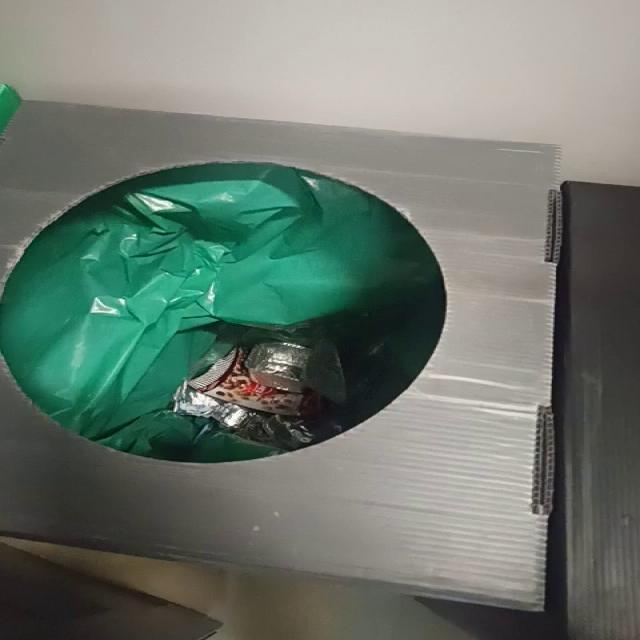bin: (1, 101, 560, 612)
metal: (245, 343, 311, 394)
